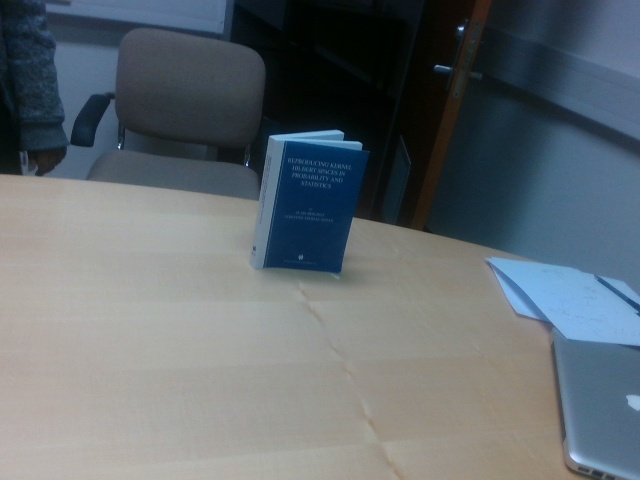book: (246, 128, 370, 275)
